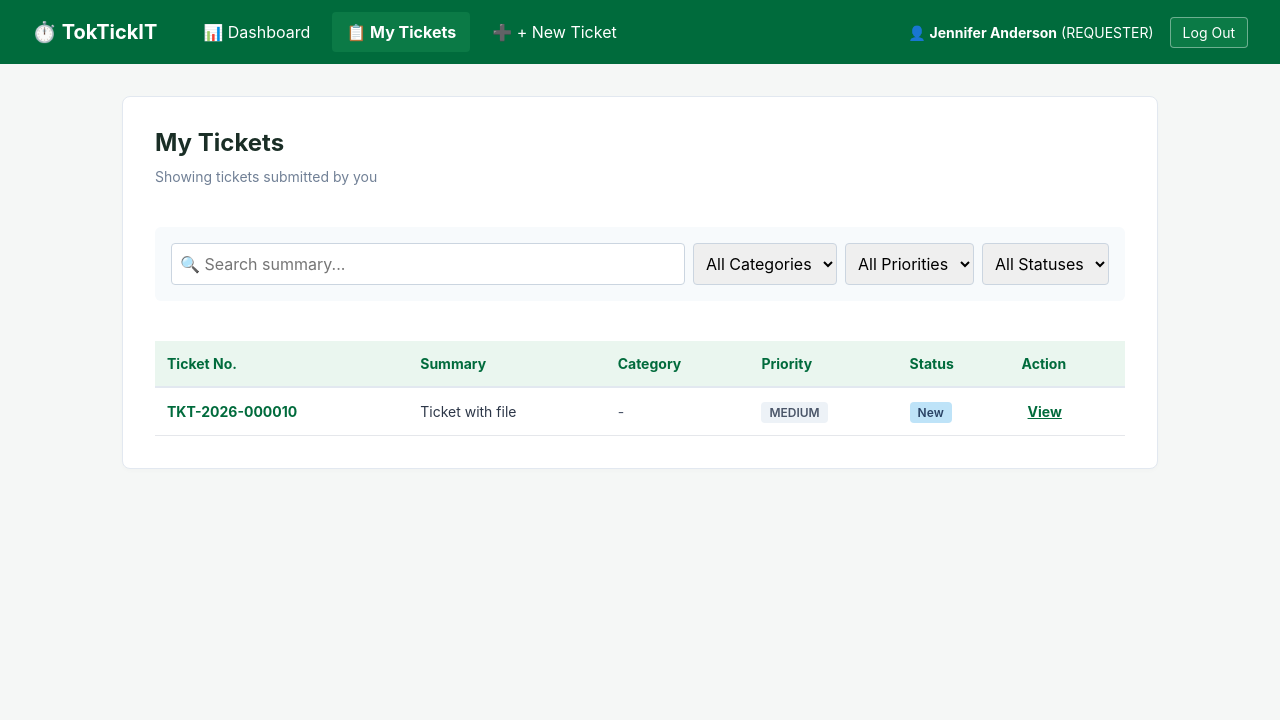
it: Attachment Section and Soft Removal (Section 4.5) › opens soft-remove modal when remove button is clicked
Click the button "View" at (1045, 411), box 1022,400 -> 1068,423
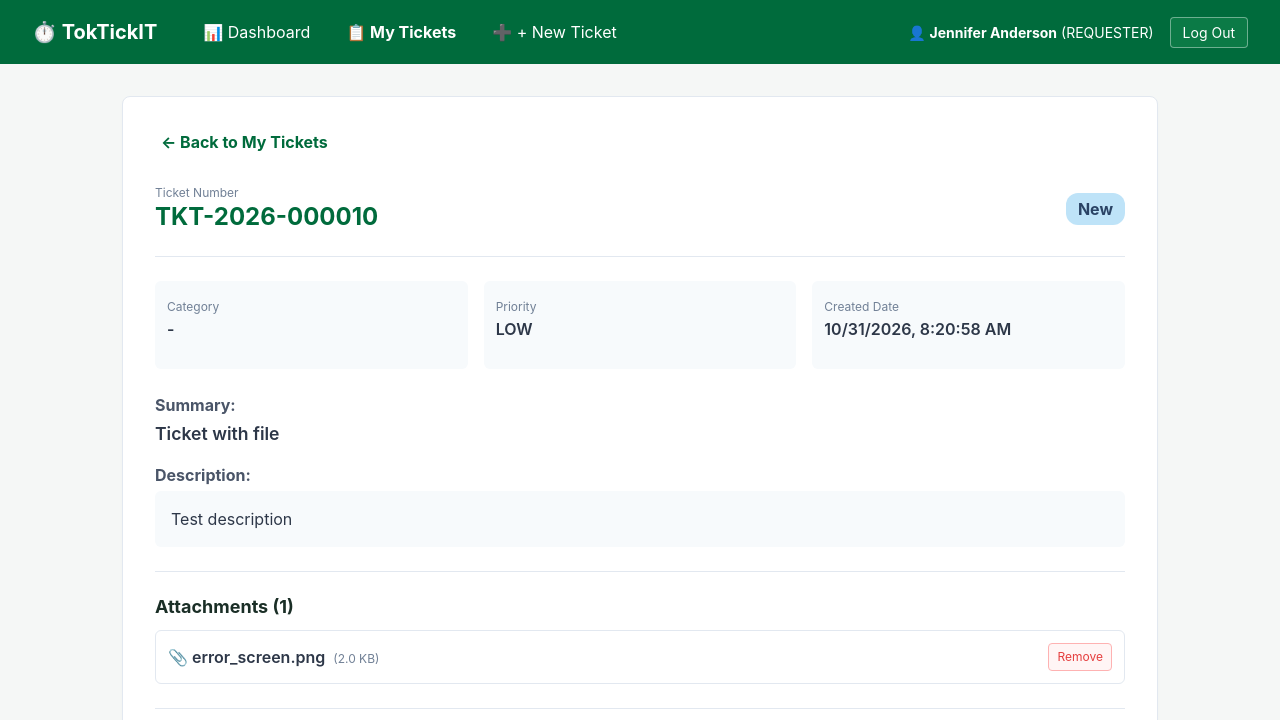
Click the button "Remove" at (1080, 657), box 1048,643 -> 1112,671
(page scrolled)
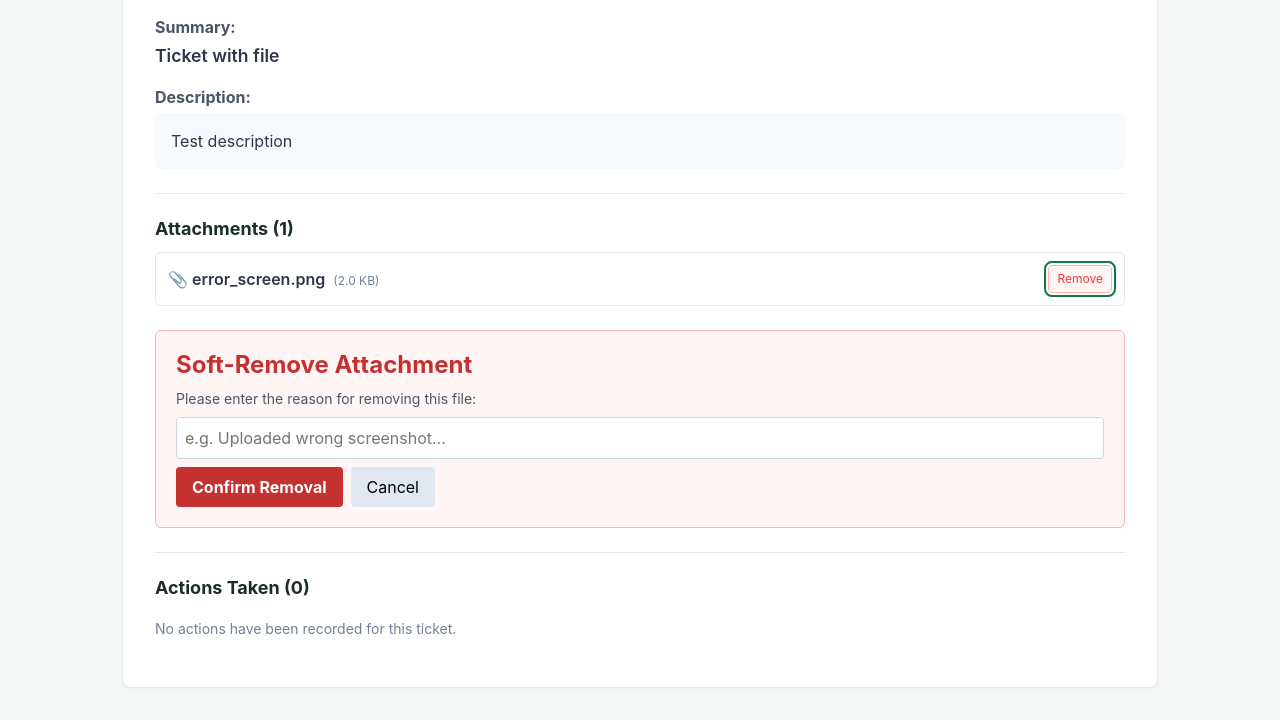
Expected: the text "Please enter the reason for removing this file:" is shown, 176,390 -> 476,407
